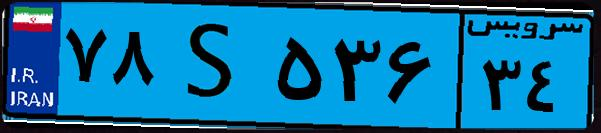3: (330, 28, 385, 110), (475, 38, 525, 113)
4: (525, 38, 570, 115)
5: (270, 28, 330, 110)
6: (385, 28, 445, 110)
7: (57, 26, 110, 100)
8: (110, 28, 158, 98)
S: (158, 12, 270, 120)
